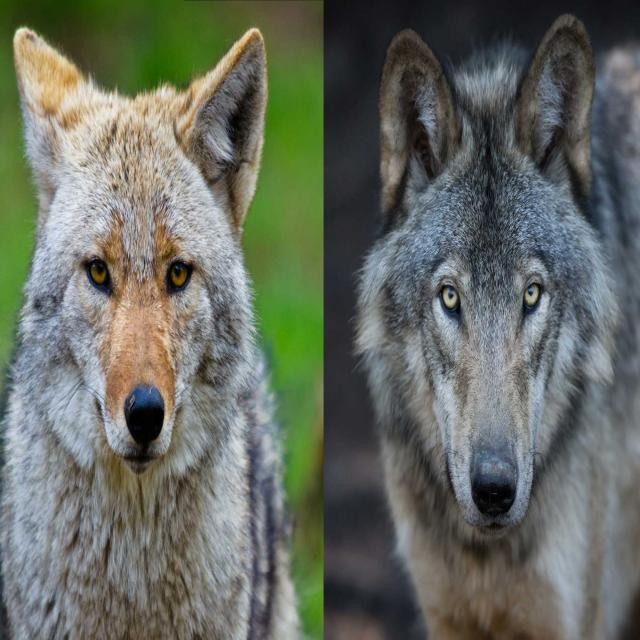Coyote: (0, 21, 286, 640)
